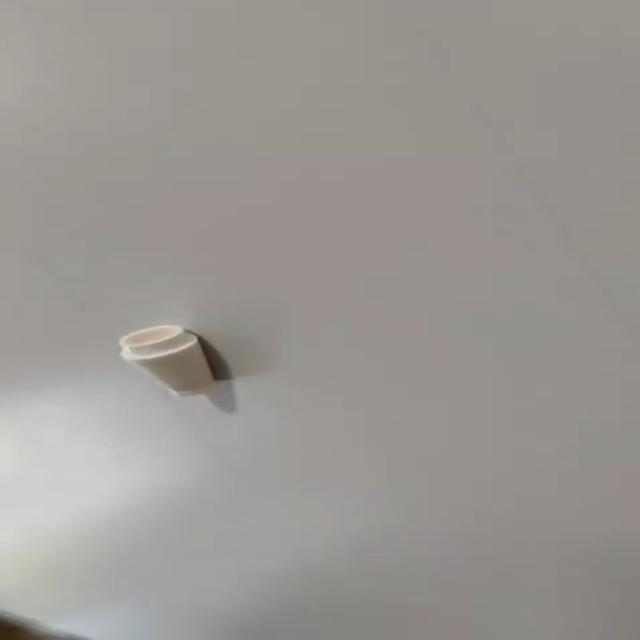Z1x1x1: (116, 325, 224, 395)
